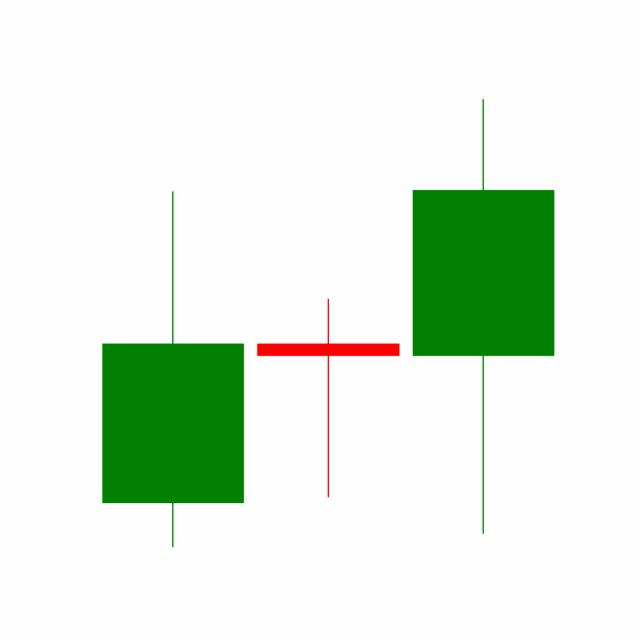Spinning Top: (249, 296, 406, 500)
